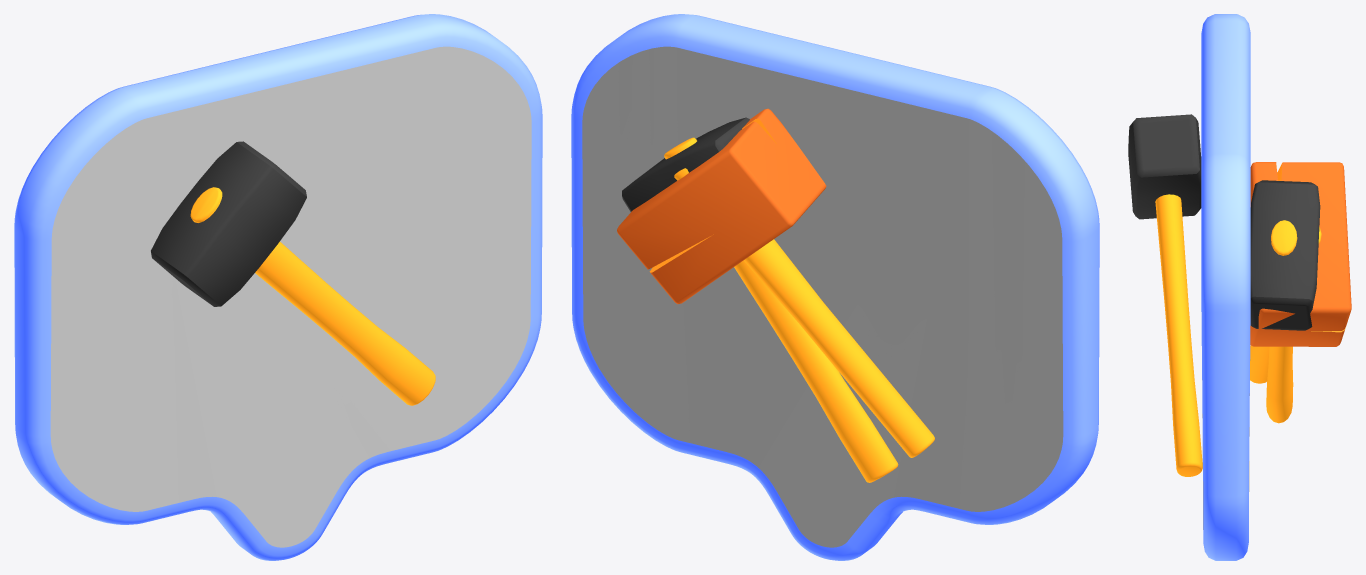
File: pop_up.fbx
3 views of the same model, side by side, from view 1: azimuth 30°, elevation 25°; view 2: azimuth 150°, elevation 25°; view 3: azimuth 270°, elevation 25° (orthographic). The views are drawn at different scales.
Visible parts, largest first — view 1: pop_up_, hammer_head, ClubHammer; view 2: pop_up_, wooden_hammer_head, WoodenMallet, ClubHammer, hammer_head; view 3: pop_up_, hammer_head (×2), ClubHammer (×2), wooden_hammer_head, WoodenMallet.
Part boxes in pixels (x1,y1,x2,y2): pop_up_: (14,14,542,560); hammer_head: (151,141,306,306); ClubHammer: (190,187,435,405); pop_up_: (571,14,1099,560); wooden_hammer_head: (617,108,826,304); WoodenMallet: (674,168,934,457); ClubHammer: (664,137,898,482); hammer_head: (622,117,749,211); pop_up_: (1201,14,1250,560); hammer_head (×2): (1128,114,1320,330); ClubHammer (×2): (1155,194,1297,476); wooden_hammer_head: (1250,162,1351,346); WoodenMallet: (1250,227,1321,383).
Bounding box in the file's own units: 1.94 × 1.8 × 0.7818.
